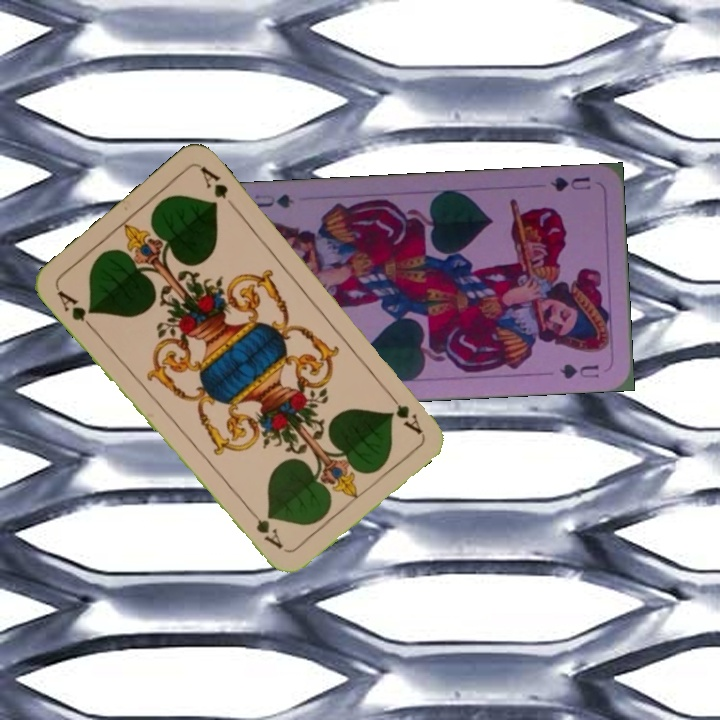GA: (52, 286, 98, 334), (382, 386, 425, 437)
GU: (546, 172, 594, 195)
